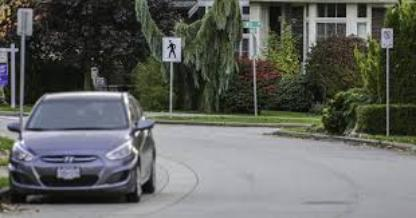car: (5, 88, 160, 206)
